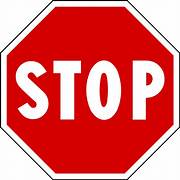stop: (1, 1, 180, 180)
